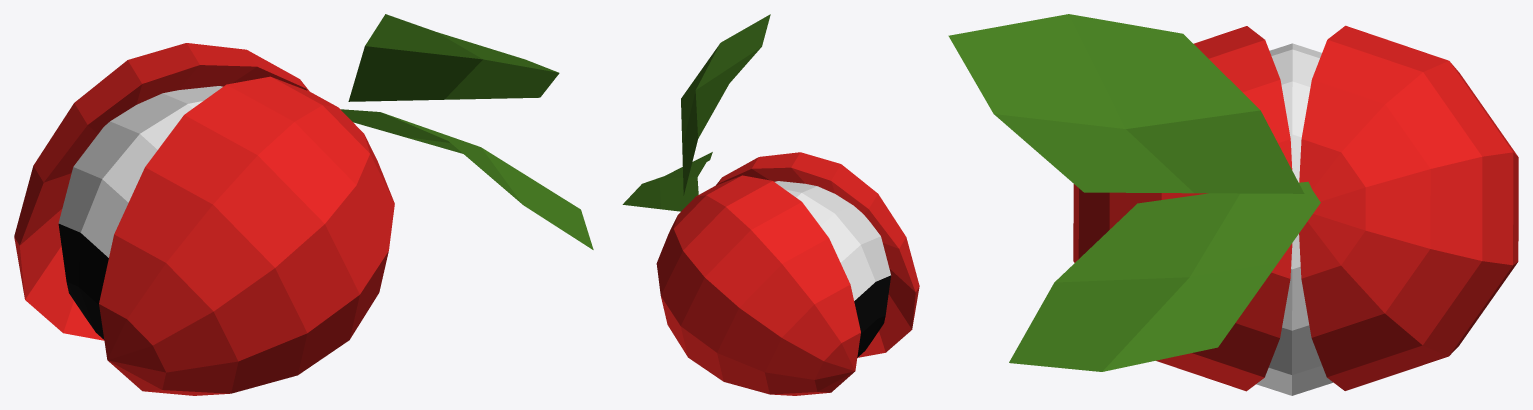
File: guarana.fbx
The picture shows the model from 3 angles, left to right: view 1: azimuth 30°, elevation 25°; view 2: azimuth 150°, elevation 25°; view 3: azimuth 270°, elevation 25°; orthographic projection. The views are drawn at different scales.
Parts seen in each view (by area): view 1: guarana; view 2: guarana; view 3: guarana.
Boxes of the visible parts, bbox=[...] form: guarana: bbox=[14, 14, 593, 395]; guarana: bbox=[622, 14, 919, 395]; guarana: bbox=[948, 14, 1518, 395].
Bounding box in the file's own units: 31.86 × 26.04 × 30.51.
